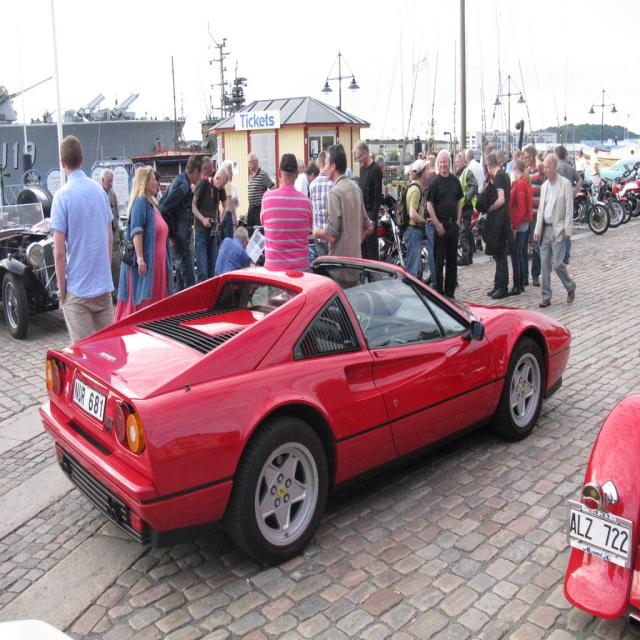car: (37, 259, 570, 568)
